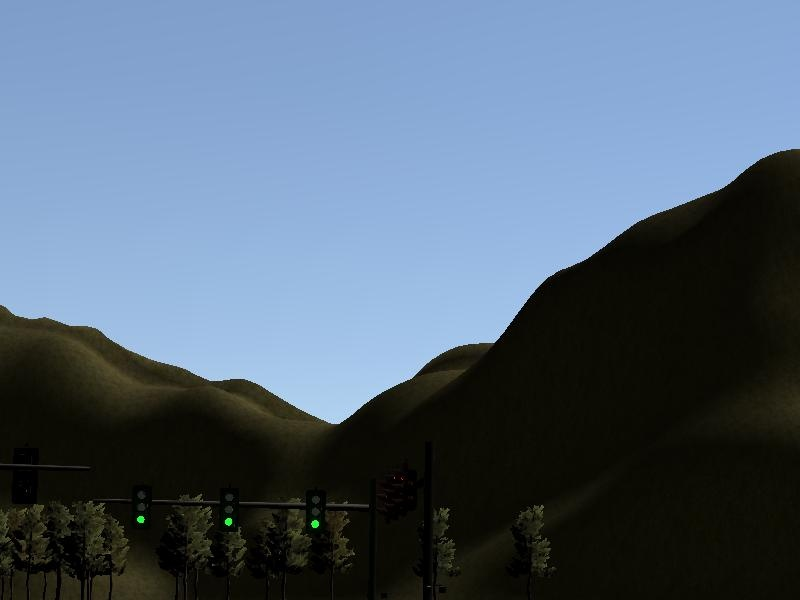GREEN: (131, 485, 150, 527), (304, 495, 325, 533), (217, 490, 237, 529)
